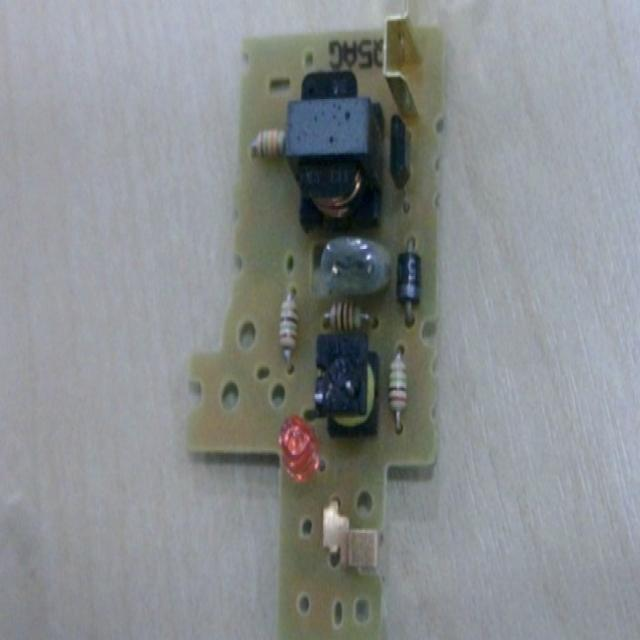019: (314, 332, 381, 440)
223: (318, 231, 392, 295)
DIODE: (398, 238, 422, 326)
LED: (280, 414, 319, 486)
R1: (278, 282, 301, 374)
R2: (319, 298, 384, 334)
R3: (386, 340, 409, 438)
R4: (247, 127, 290, 165)
TCE: (287, 71, 384, 230)
TRANSISTOR: (389, 116, 415, 212)
